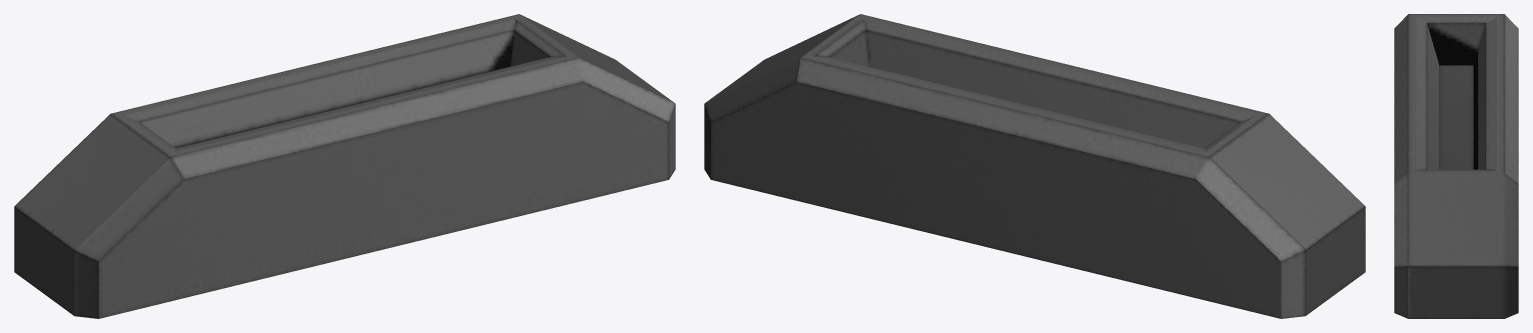
Rendered from floorShooter.obj.
3 views of the same model, side by side, from view 1: azimuth 30°, elevation 25°; view 2: azimuth 150°, elevation 25°; view 3: azimuth 270°, elevation 25° (orthographic). The views are drawn at different scales.
Visible parts, largest first — view 1: floorshooter; view 2: floorshooter; view 3: floorshooter.
Part boxes in pixels (left/top/right/bottom): floorshooter: left=14, top=14, right=675, bottom=318; floorshooter: left=704, top=14, right=1365, bottom=318; floorshooter: left=1394, top=14, right=1518, bottom=318.
Size of the model in its own units: 127 by 27.23 by 28.46.
1 material, 1 textured.
